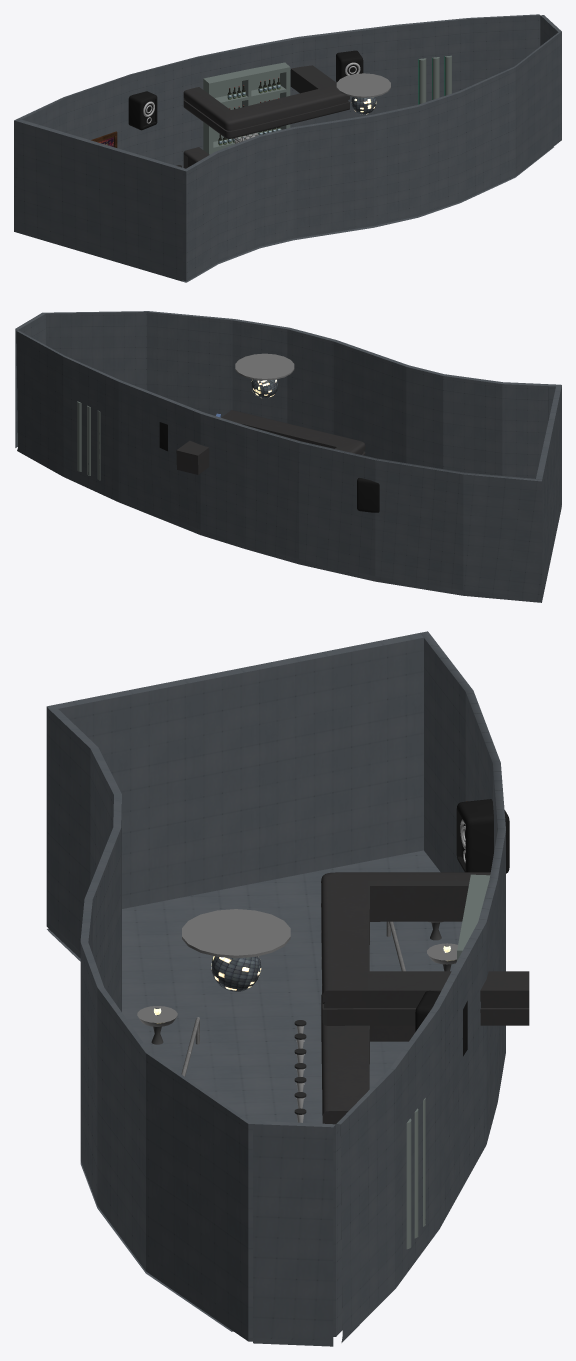
The model's file is Bar_Environ.fbx.
The picture shows the model from 3 angles, top to bottom: view 1: azimuth 30°, elevation 25°; view 2: azimuth 150°, elevation 25°; view 3: azimuth 270°, elevation 25°; orthographic projection. The views are drawn at different scales.
Parts seen in each view (by area): view 1: Bar, Counter_Celling, Shelf, Disco_Source, Speaker, Speaker001, Alcohol_Dispenser, Disco_Ball, Counter; view 2: Bar, Counter_Celling, Disco_Source, Speaker, Disco_Ball; view 3: Bar, Counter_Celling, Counter, Disco_Source, Speaker, Disco_Ball, Shelf.
Part boxes in pixels (box(x1,y1,x2,y2)): Bar: box(14, 14, 561, 282); Counter_Celling: box(183, 65, 349, 138); Shelf: box(203, 62, 290, 154); Disco_Source: box(336, 73, 390, 97); Speaker: box(128, 91, 157, 130); Speaker001: box(336, 50, 363, 81); Alcohol_Dispenser: box(418, 58, 426, 104); Disco_Ball: box(351, 97, 376, 114); Counter: box(183, 147, 209, 168); Bar: box(15, 311, 561, 602); Counter_Celling: box(176, 410, 365, 474); Disco_Source: box(235, 353, 294, 380); Speaker: box(357, 478, 379, 512); Disco_Ball: box(251, 379, 278, 398); Bar: box(46, 631, 505, 1346); Counter_Celling: box(321, 872, 529, 1025); Counter: box(321, 994, 415, 1124); Disco_Source: box(182, 909, 290, 958); Speaker: box(456, 799, 509, 873); Disco_Ball: box(211, 956, 261, 991); Shelf: box(457, 874, 490, 960).
Size of the model in its own units: 25.89 by 5.44 by 10.69.
